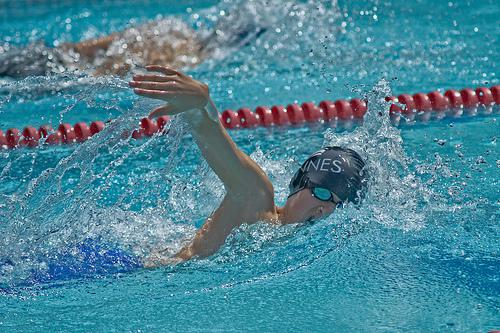swimmer: (128, 50, 380, 274)
